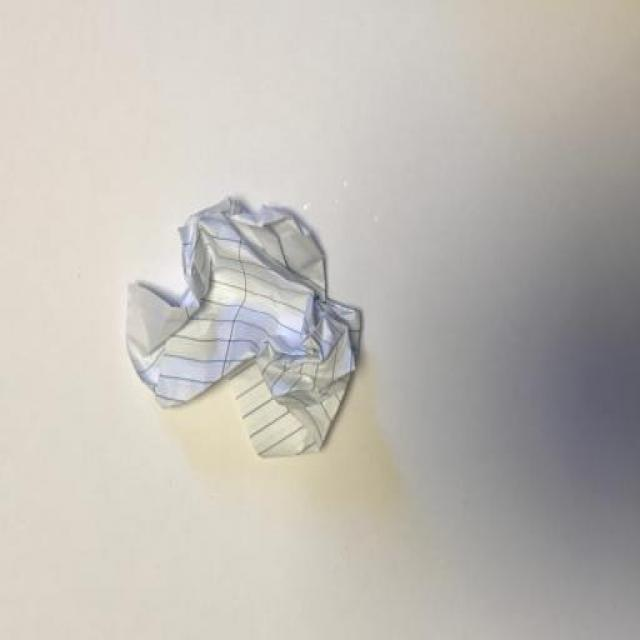paper: (101, 177, 442, 503)
